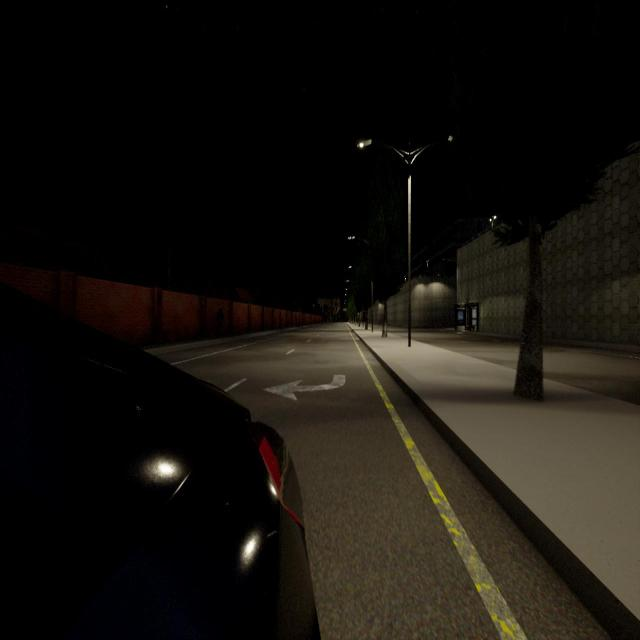Vehicle: (0, 297, 313, 637)
